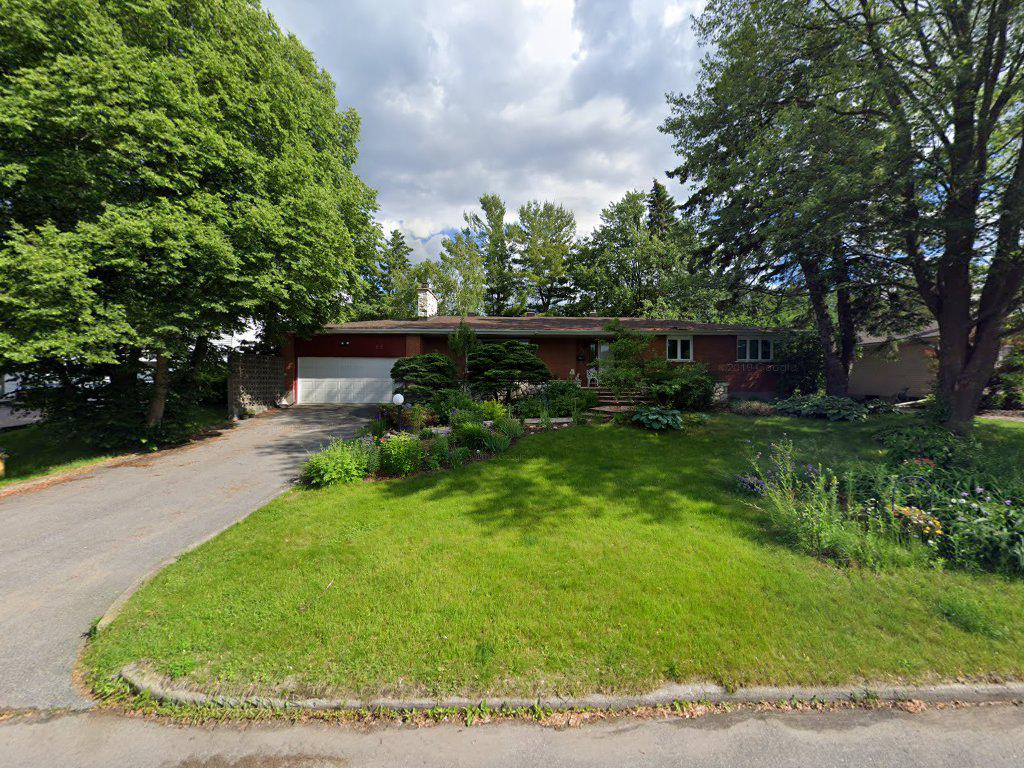trunk: (918, 169, 1015, 455)
